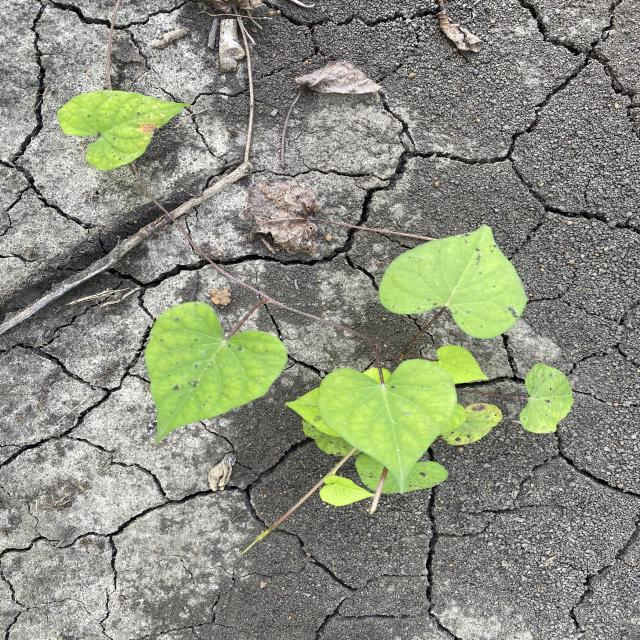MorningGlory: (54, 89, 577, 509)
